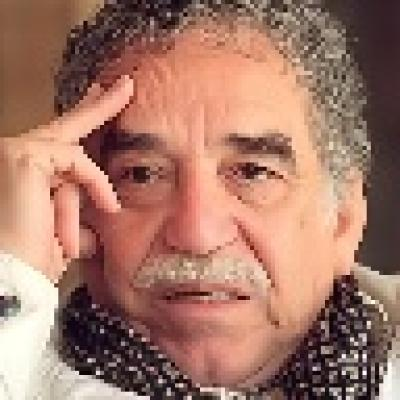sad: (71, 24, 342, 372)
